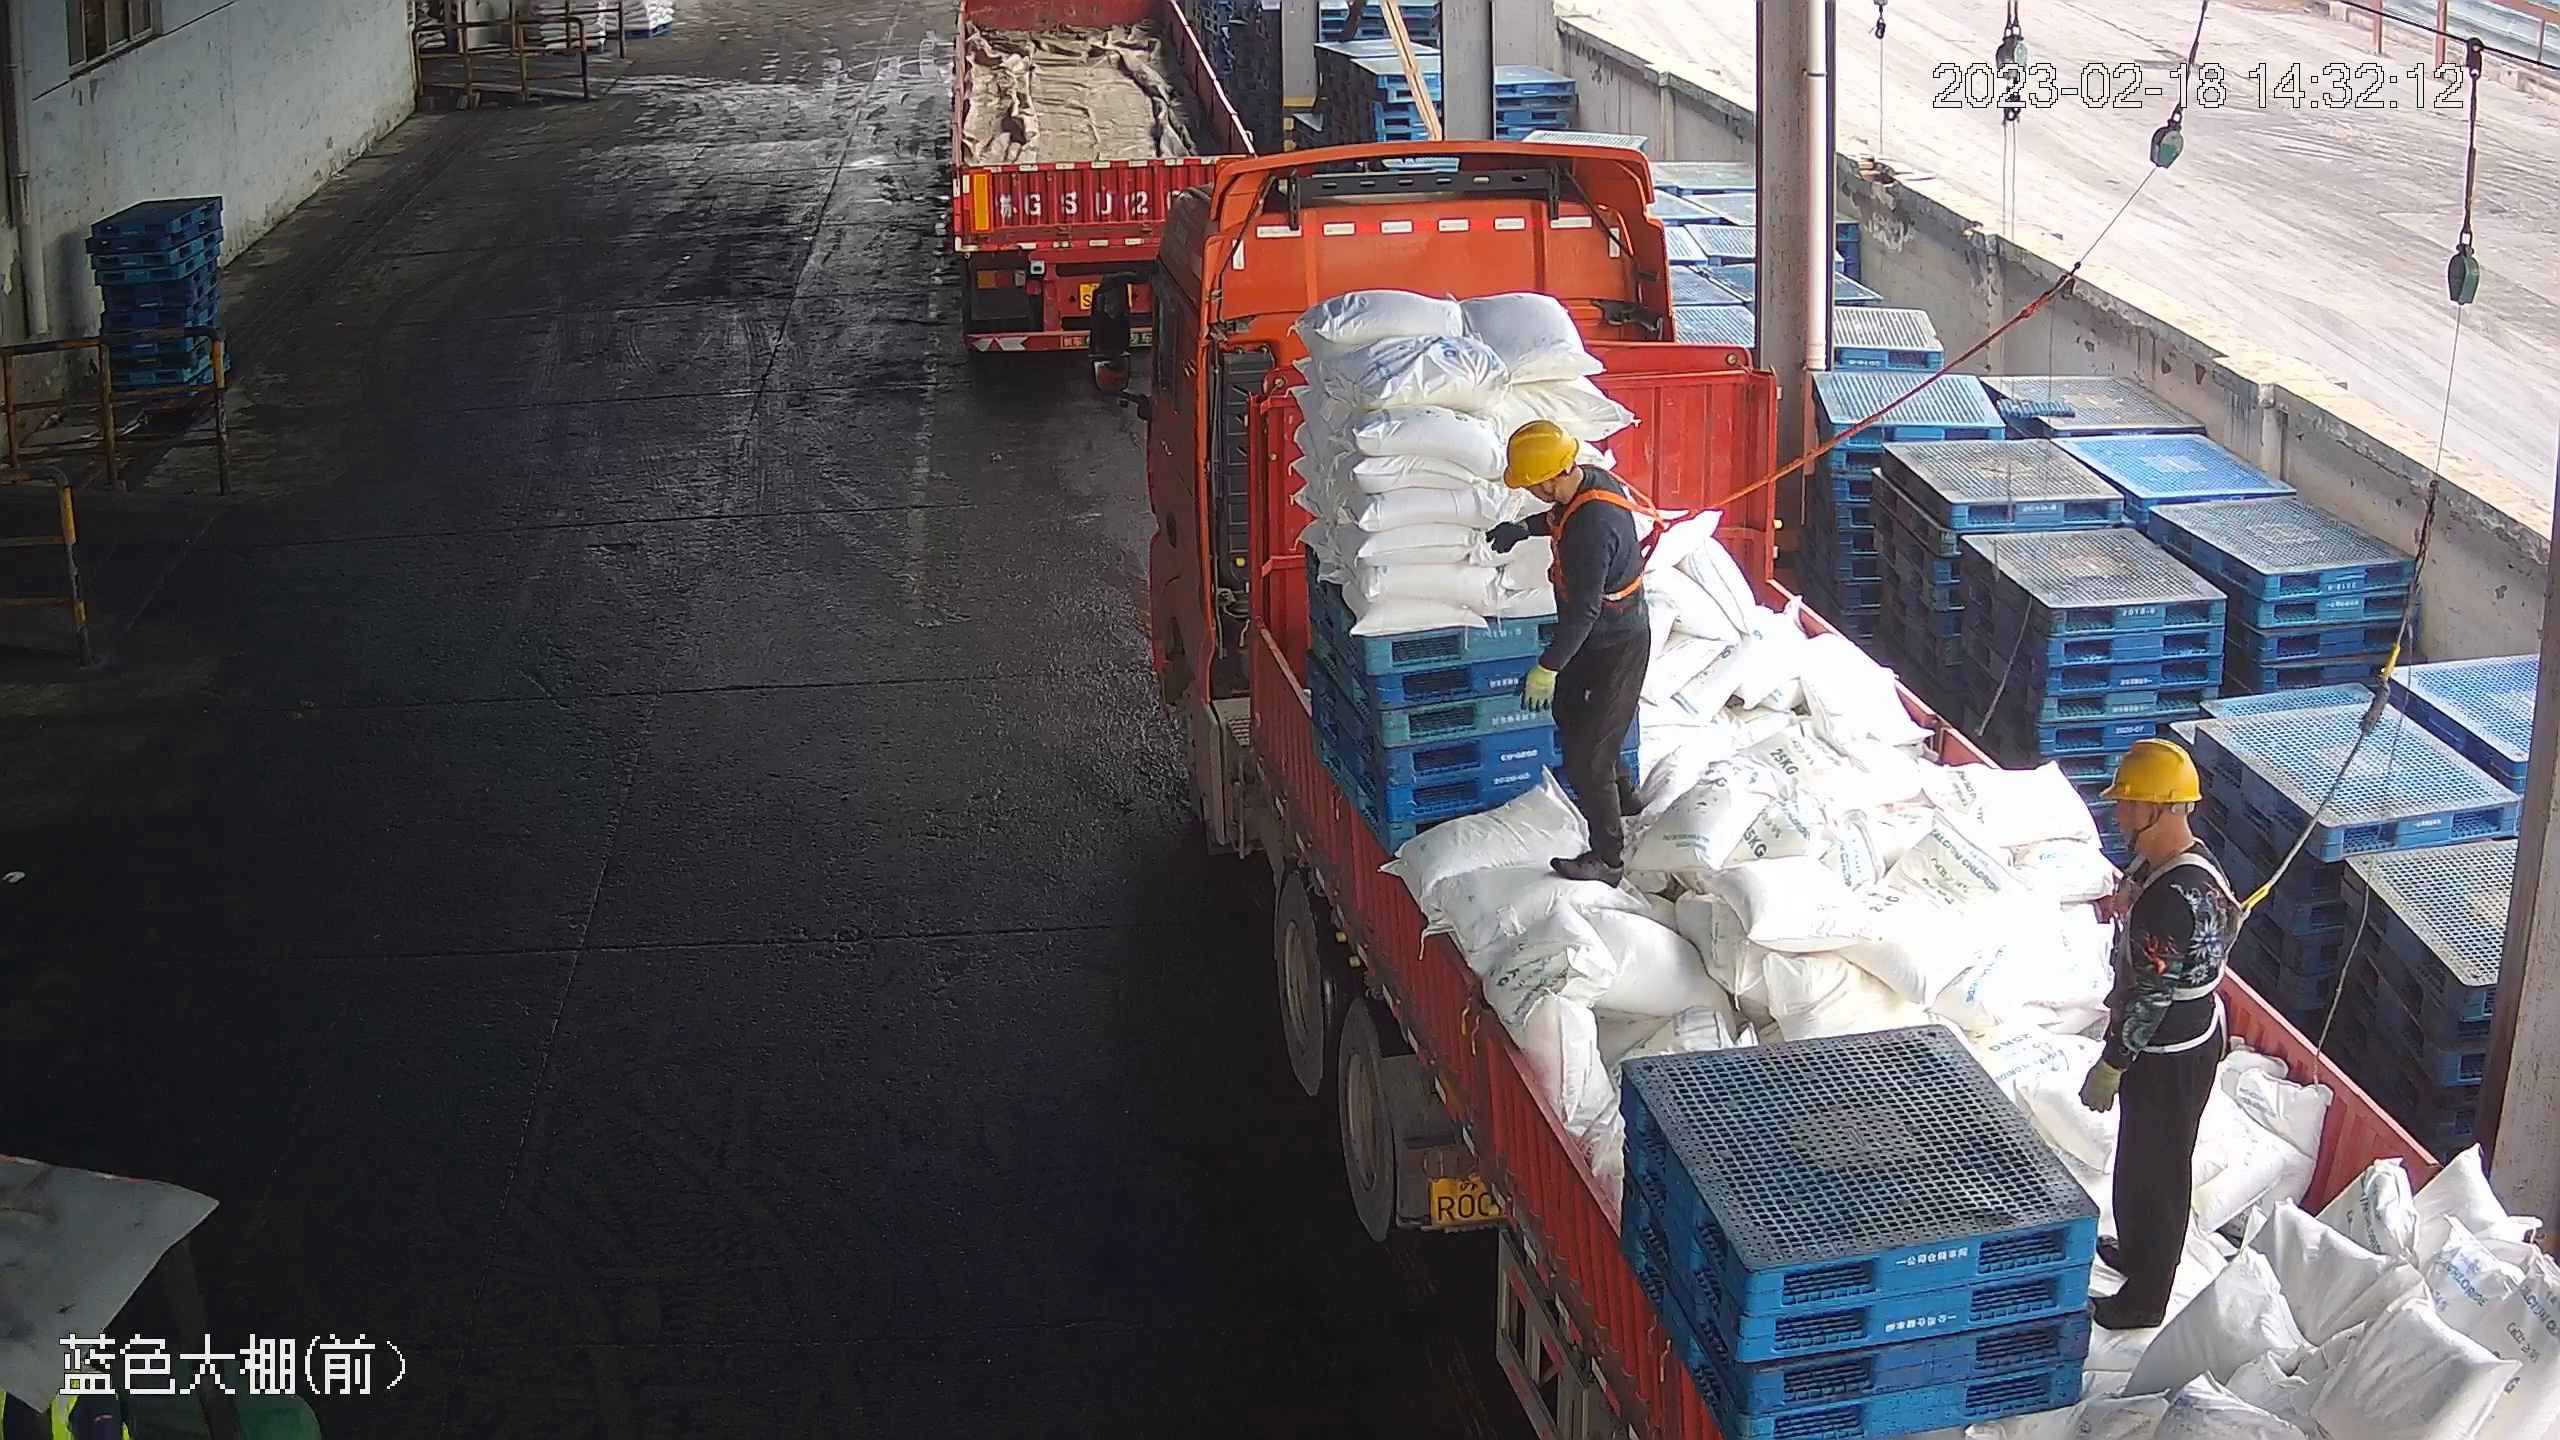belt: (2122, 851, 2250, 1000), (1553, 470, 1679, 605)
head: (2093, 732, 2233, 933), (1494, 420, 1642, 578)
helmet: (2101, 734, 2204, 807), (1501, 419, 1581, 486)
people: (2072, 737, 2242, 1342), (1489, 417, 1657, 884)
truck: (1082, 136, 2542, 1439), (941, 4, 1264, 371)
